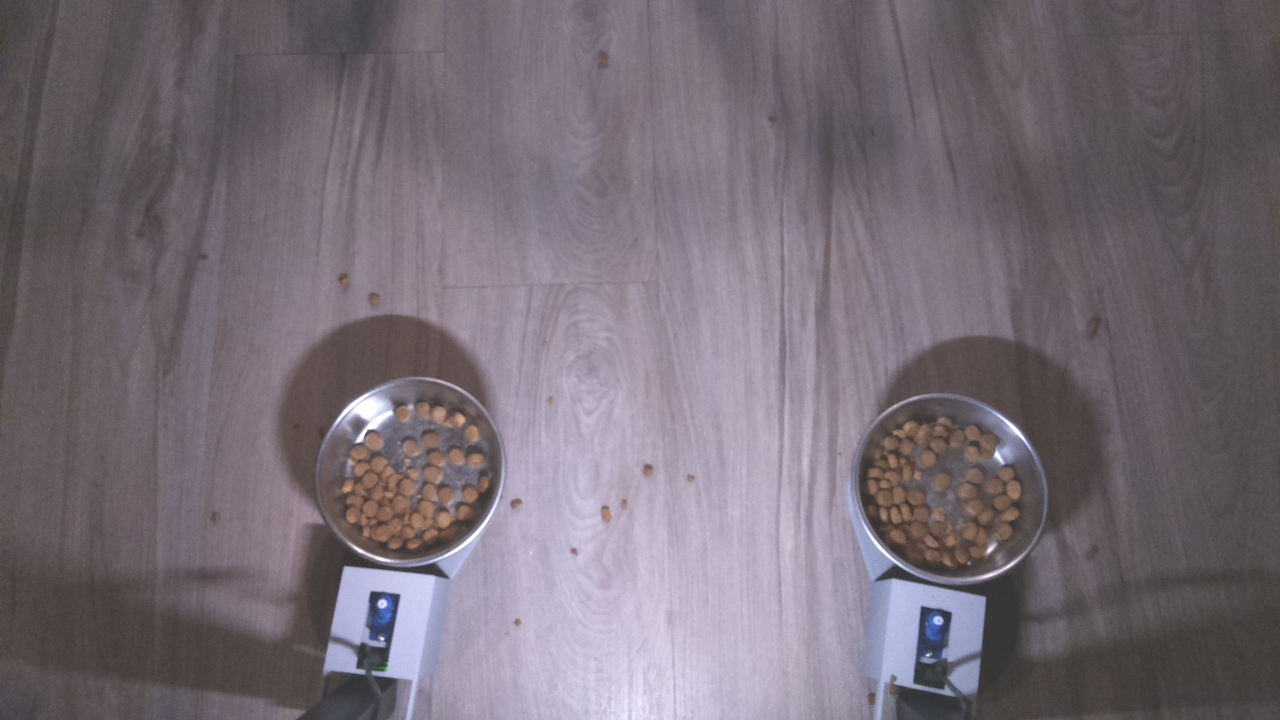open_bowl: (851, 390, 1054, 591), (311, 373, 508, 568)
